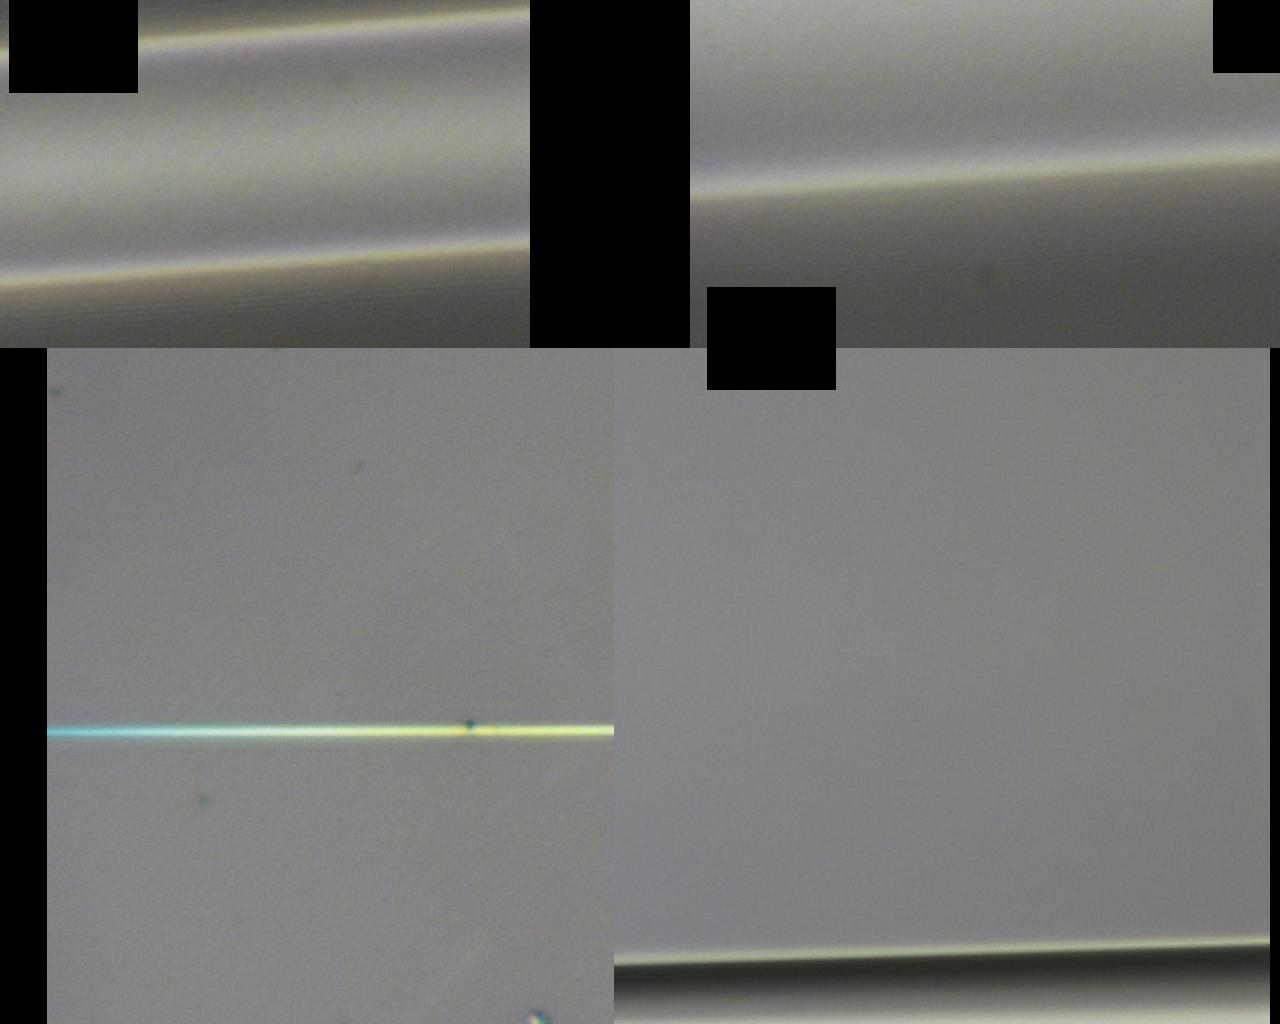fiber: (601, 95, 1280, 593), (862, 646, 1280, 1024), (123, 0, 294, 593), (293, 593, 310, 1024)
